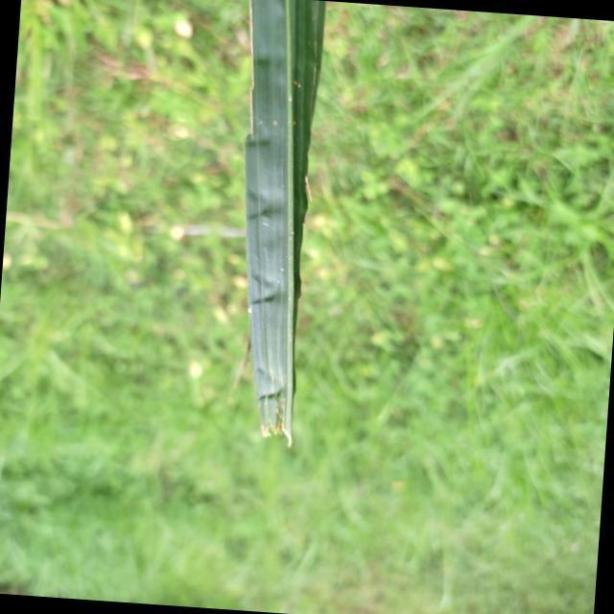Boron: (238, 0, 330, 454)
